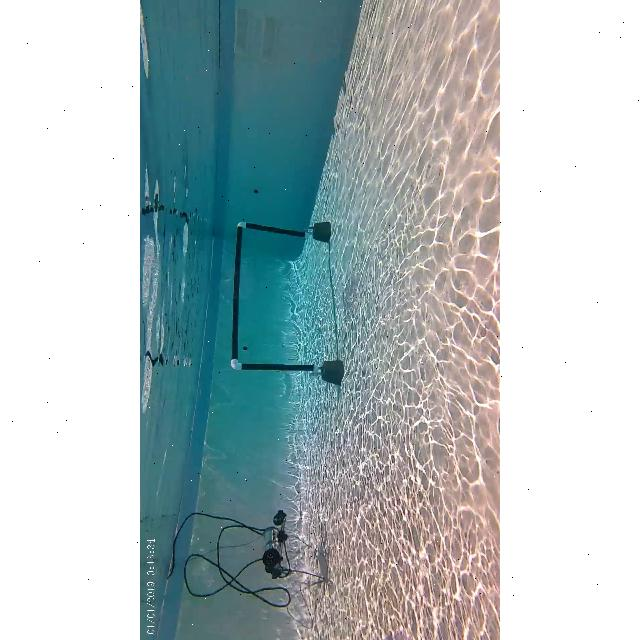prequal gate: (232, 221, 318, 371)
prequal gate leg l: (228, 356, 324, 380)
prequal gate leg r: (230, 214, 320, 246)
